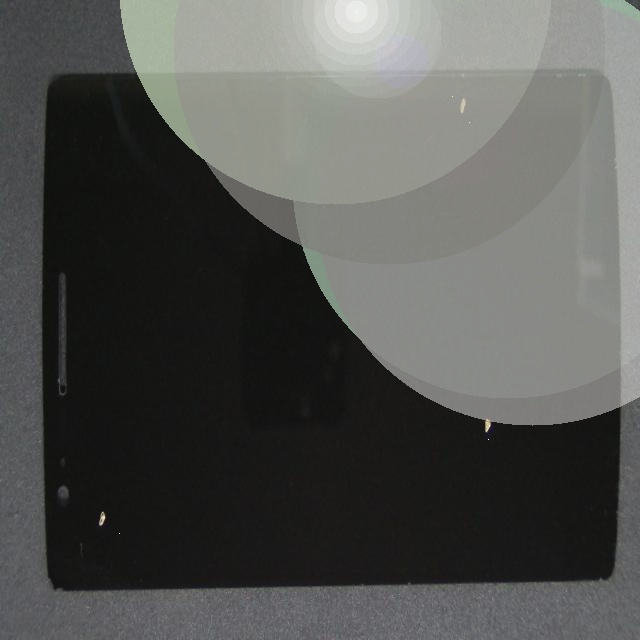stain: (197, 192, 640, 640), (242, 10, 640, 136), (43, 270, 130, 640)
